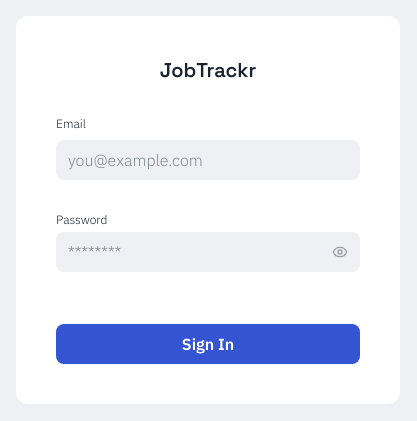
Scenario: LoginForm component › should show validation errors when submitted empty
Click the button "Sign In".
click(208, 344)  # box [56,324,360,364]
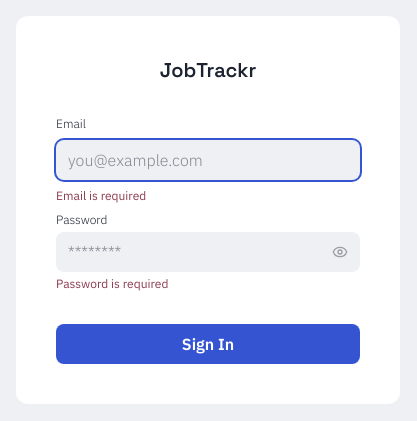
Expected: the text "Email is required" is shown, [56,188,146,204]
Expected: the text "Password is required" is shown, [56,276,168,292]
